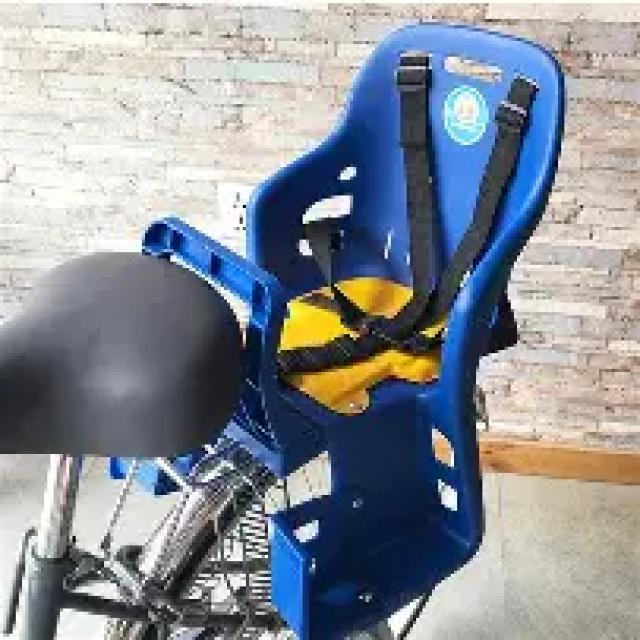childseat: (235, 19, 572, 612)
